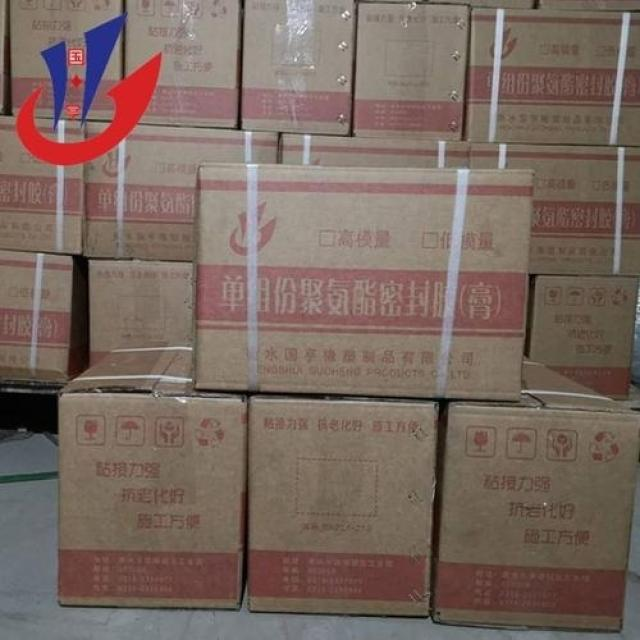box: (196, 165, 532, 403), (435, 353, 639, 632), (58, 337, 248, 611), (251, 393, 439, 620), (82, 120, 279, 262), (466, 10, 640, 146), (466, 140, 640, 276), (353, 4, 471, 142), (120, 0, 241, 127), (241, 3, 356, 134), (529, 278, 639, 402), (13, 0, 122, 123), (0, 114, 84, 253), (88, 260, 192, 369), (0, 248, 84, 381), (278, 134, 470, 168), (538, 1, 640, 9)
